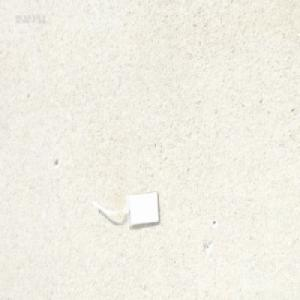LuggageTag: (92, 188, 162, 230)
